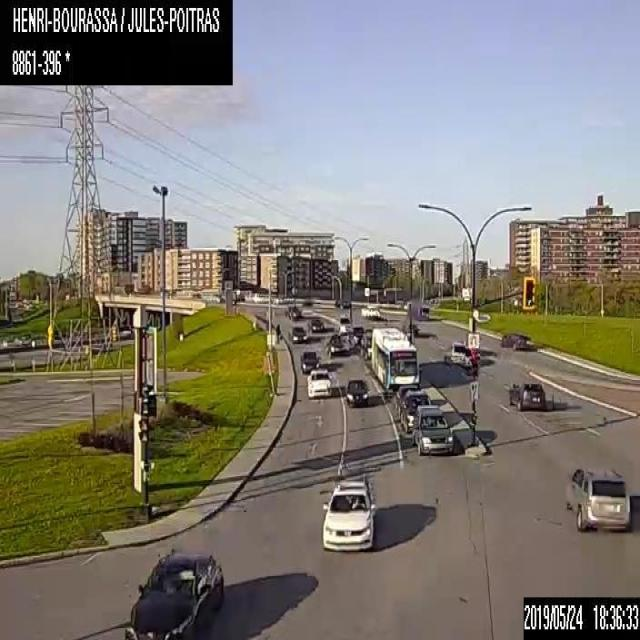bus: (371, 326, 421, 390)
pedestrian: (274, 322, 281, 342)
vehicle: (123, 549, 225, 639), (564, 464, 630, 532), (321, 477, 377, 552), (410, 404, 453, 453), (397, 390, 430, 432), (508, 380, 546, 411), (307, 363, 331, 397), (393, 384, 419, 413), (499, 330, 534, 350), (444, 338, 467, 366), (346, 378, 368, 406), (325, 333, 346, 358), (300, 350, 320, 372), (346, 326, 363, 348), (406, 302, 428, 318), (360, 329, 371, 360), (287, 325, 306, 342), (334, 316, 349, 335), (307, 316, 323, 333), (287, 304, 302, 320), (364, 306, 380, 319), (333, 298, 349, 310)
